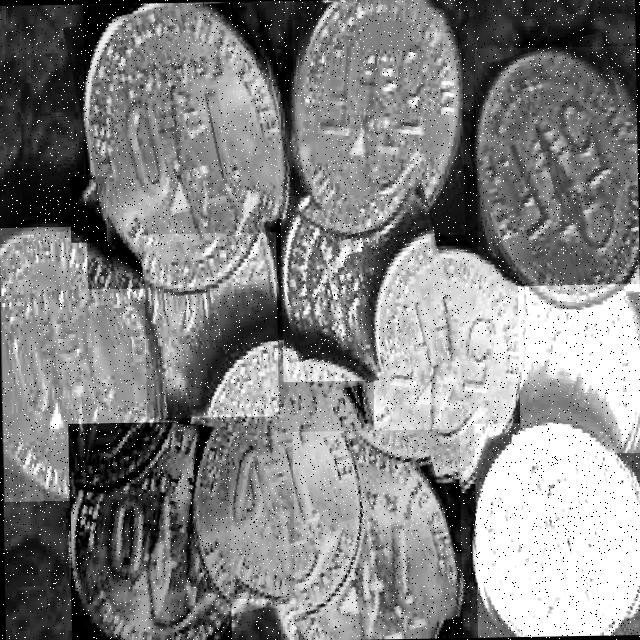derem: (476, 47, 639, 307), (293, 0, 461, 235), (360, 248, 525, 480)
fukk: (476, 422, 640, 636), (281, 193, 430, 380)
niaari derem: (85, 2, 287, 287), (184, 342, 375, 597), (0, 227, 158, 499), (70, 422, 230, 640), (296, 431, 461, 640), (519, 286, 640, 452)
niaari fukk: (144, 232, 276, 417), (70, 176, 106, 241)
